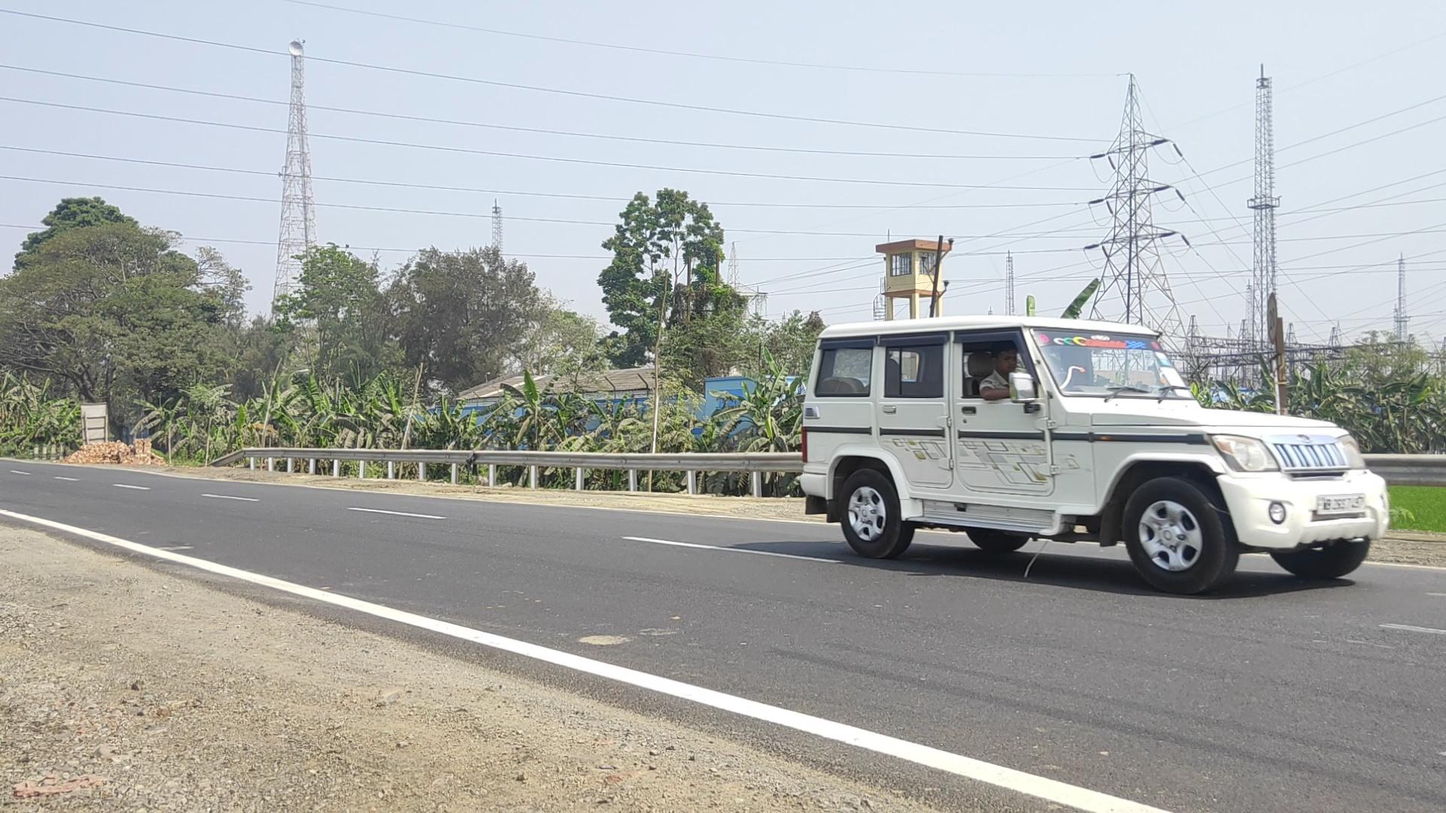car: (795, 315, 1389, 596)
